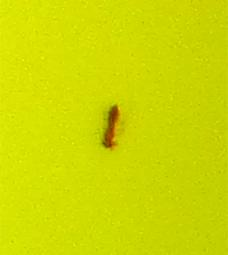Hymenoptera: (100, 100, 128, 155)
